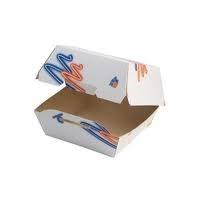Cardboard: (16, 26, 183, 184)
